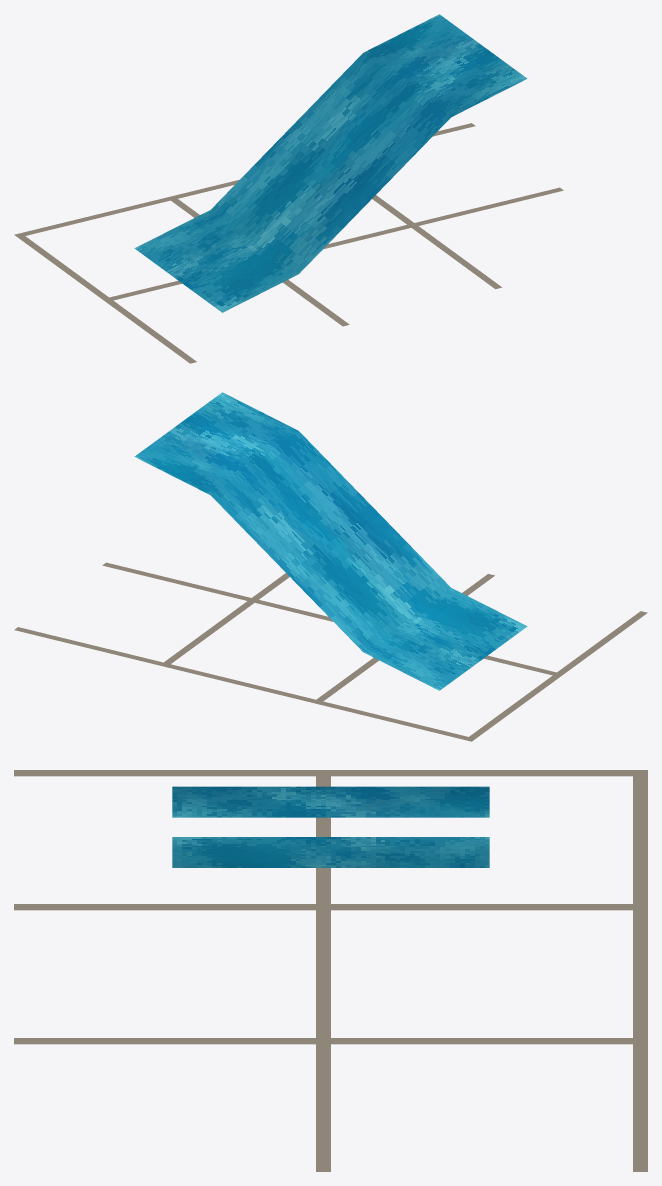
Rendered from Terrain_Water_River_Incline_Sharp_1x2.glb.
3 renders of one model, top to bottom at view 1: azimuth 30°, elevation 25°; view 2: azimuth 150°, elevation 25°; view 3: azimuth 270°, elevation 25°, orthographic. The views are drawn at different scales.
Parts seen in each view (by area): view 1: Terrain_Water_River_Incline_Sharp_1x2, Floor; view 2: Terrain_Water_River_Incline_Sharp_1x2, Floor; view 3: Floor, Terrain_Water_River_Incline_Sharp_1x2.
Part boxes in pixels (x1,y1,x2,y2): Terrain_Water_River_Incline_Sharp_1x2: (134,14,527,312); Floor: (14,123,563,363); Terrain_Water_River_Incline_Sharp_1x2: (134,392,527,690); Floor: (14,562,647,741); Floor: (14,770,647,1171); Terrain_Water_River_Incline_Sharp_1x2: (172,786,489,867).
Size of the model in its own units: 300 by 100 by 200.
2 materials, 2 textured.
